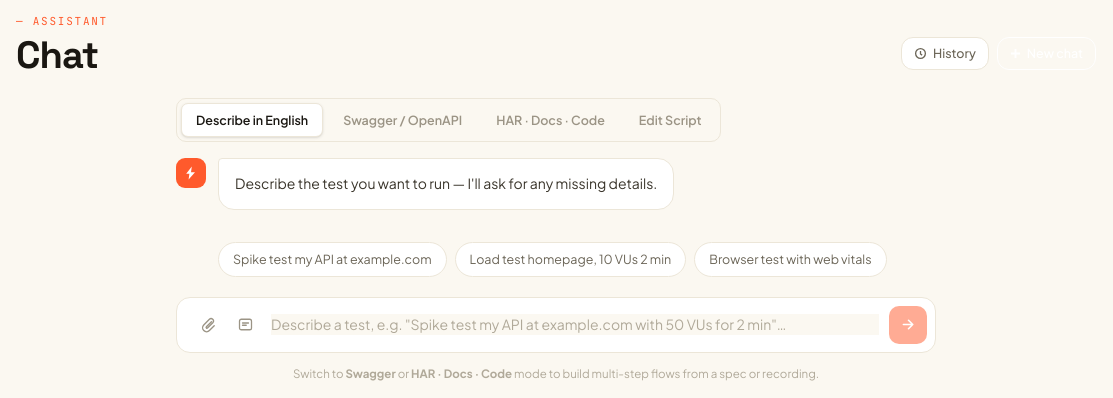
Test case: ChatPage — edit mode › shows an in-chat picker listing saved scripts when Edit Script mode is selected
Click the button "Edit Script" at (670, 120), box x1=625 y1=102 x2=716 y2=137
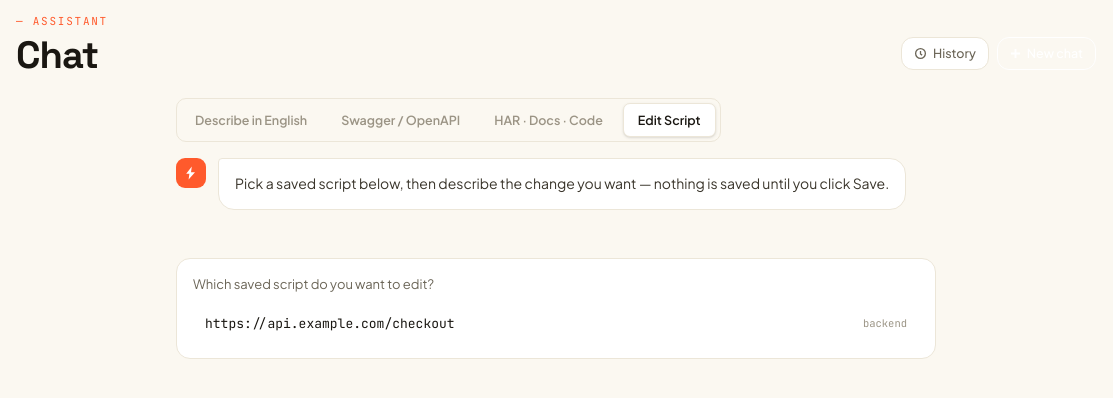
Expected: the text "https://api.example.com/checkout" is shown, x1=205 y1=314 x2=455 y2=334
Expected: the text "Which saved script do you want to edit?" is shown, x1=193 y1=276 x2=434 y2=292
